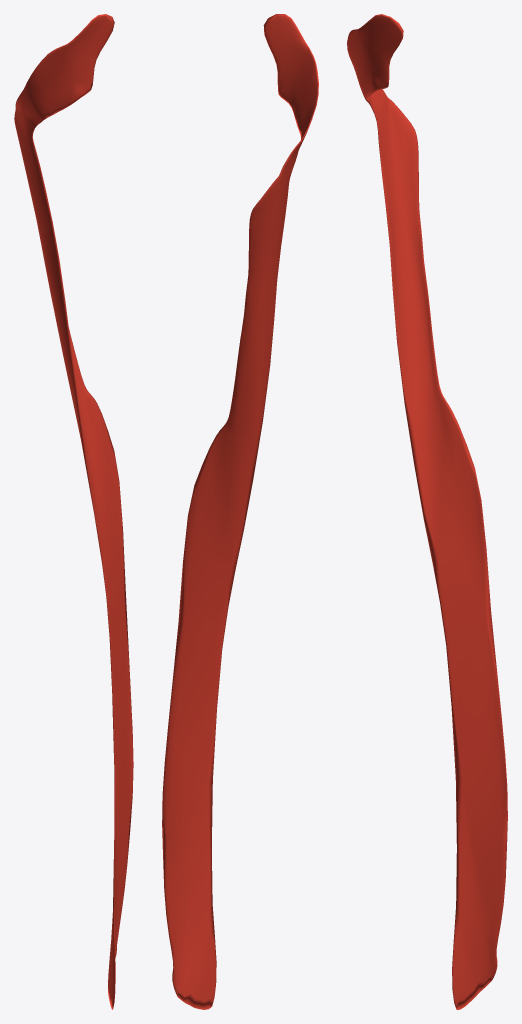
File: Origin_of_vastus_lateralis.r_Generated_Mesh_From_X3D.862.glb
3 renders of one model, left to right at view 1: azimuth 30°, elevation 25°; view 2: azimuth 150°, elevation 25°; view 3: azimuth 330°, elevation 25°, orthographic. The views are drawn at different scales.
Parts seen in each view (by area): view 1: Origin_of_vastus_lateralis.r_Generated_Mesh_From_X3D.862; view 2: Origin_of_vastus_lateralis.r_Generated_Mesh_From_X3D.862; view 3: Origin_of_vastus_lateralis.r_Generated_Mesh_From_X3D.862.
Part boxes in pixels (<box>): Origin_of_vastus_lateralis.r_Generated_Mesh_From_X3D.862: <box>14,14,133,1009</box>; Origin_of_vastus_lateralis.r_Generated_Mesh_From_X3D.862: <box>162,14,318,1009</box>; Origin_of_vastus_lateralis.r_Generated_Mesh_From_X3D.862: <box>347,14,507,1009</box>.
Size of the model in its own units: 0.0425 by 0.3118 by 0.0291.
